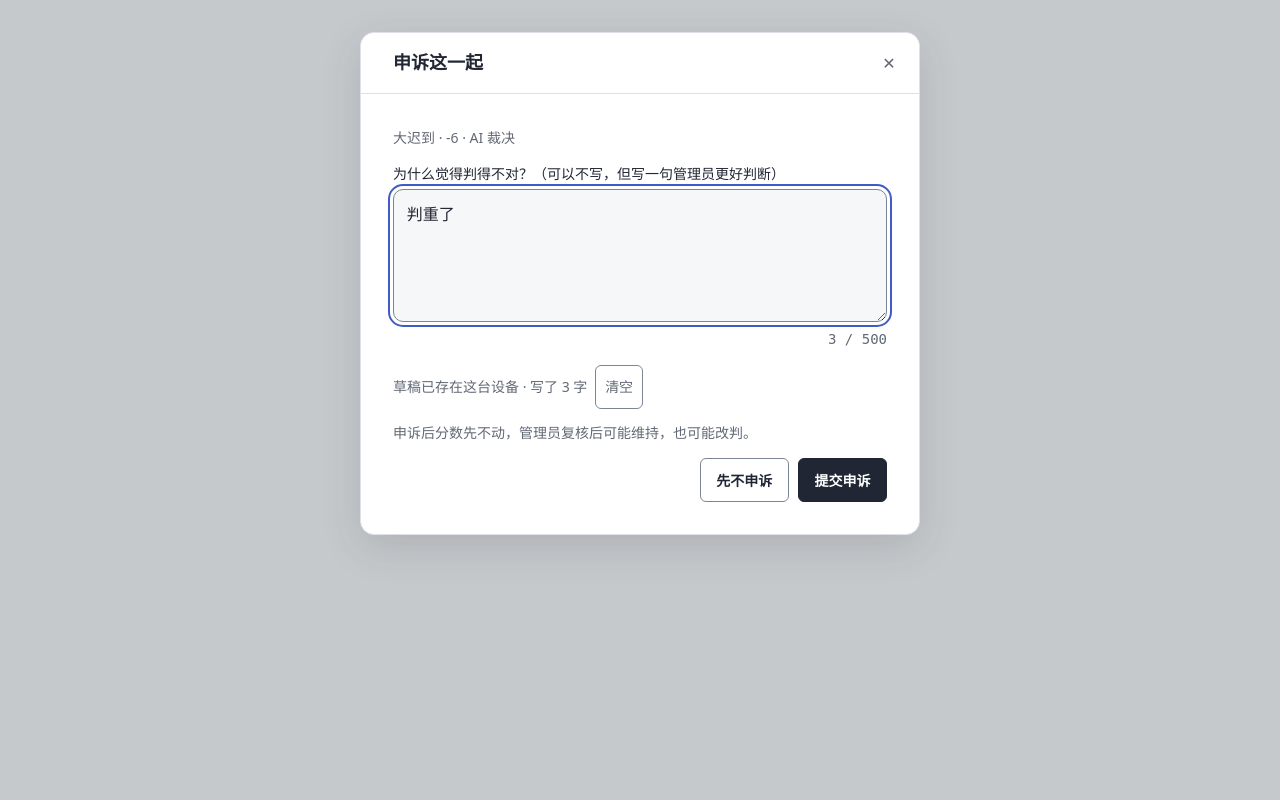
Test case: AppealSheet › backs out of the confirm on Escape instead of closing
This screenshot has width=1280, height=800.
Click the button "提交申诉" at point(843, 480), box [798,458,887,502]
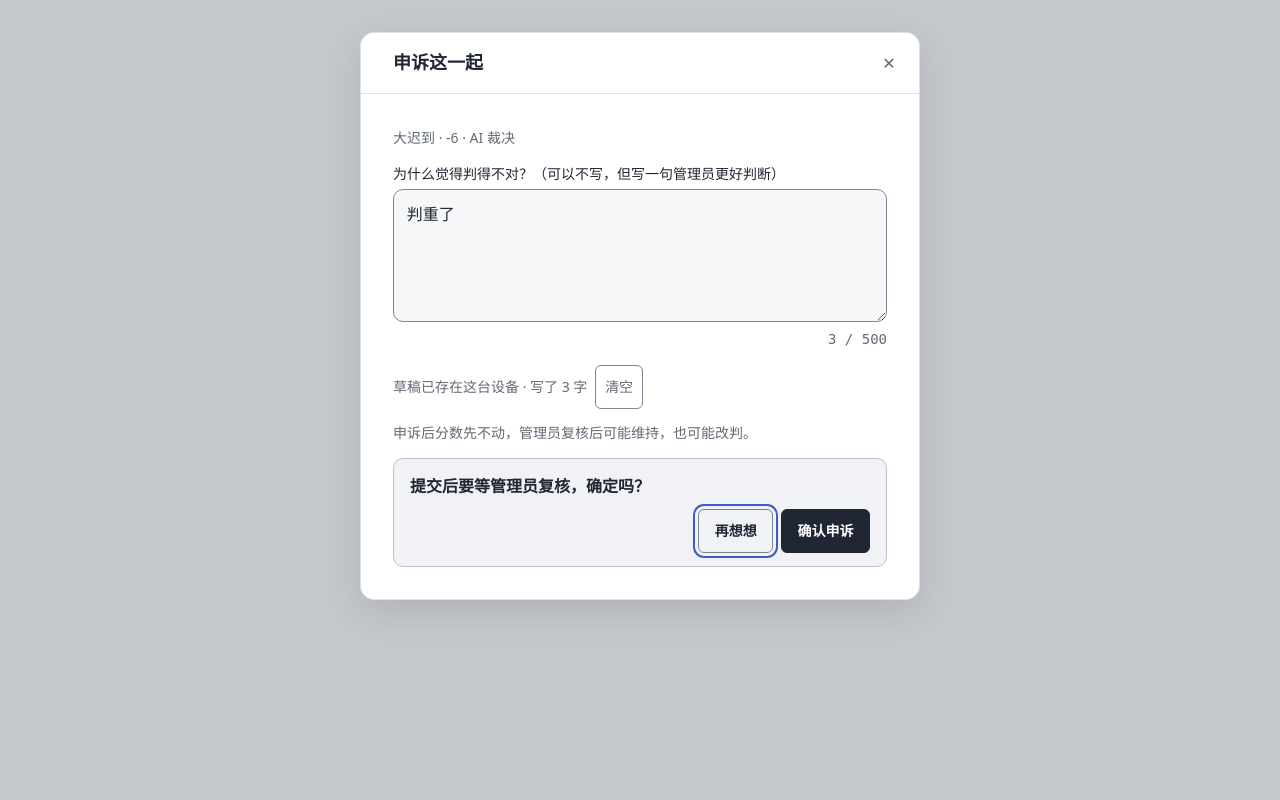
Press Escape
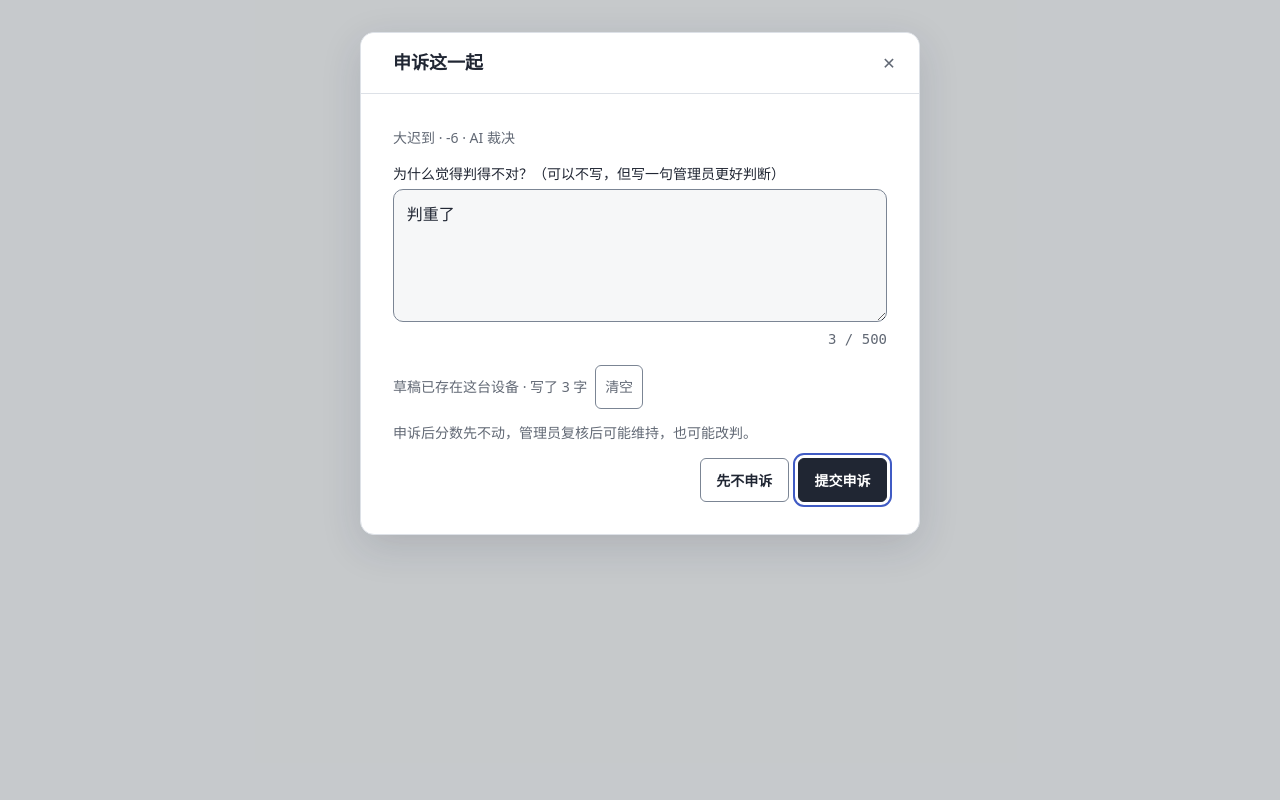
Now the text "提交后要等管理员复核，确定吗？" is gone
